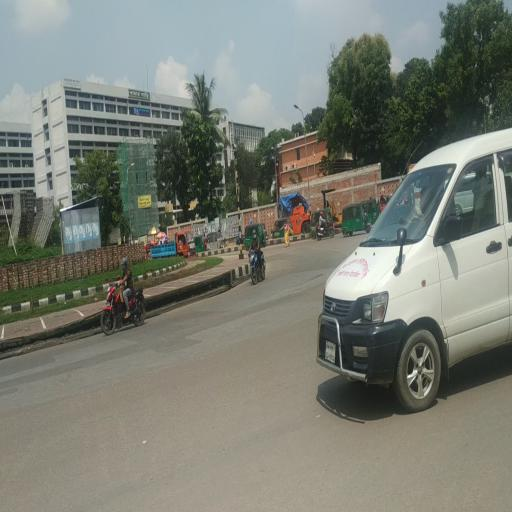minivan: (314, 127, 512, 421)
motorbike: (101, 258, 148, 338), (248, 250, 268, 287), (316, 225, 338, 243)
pickup: (151, 232, 197, 258)
three wheelers (CNG): (341, 204, 372, 237), (245, 225, 267, 250), (275, 219, 295, 240), (366, 201, 381, 225), (207, 232, 225, 252), (195, 234, 206, 253)
